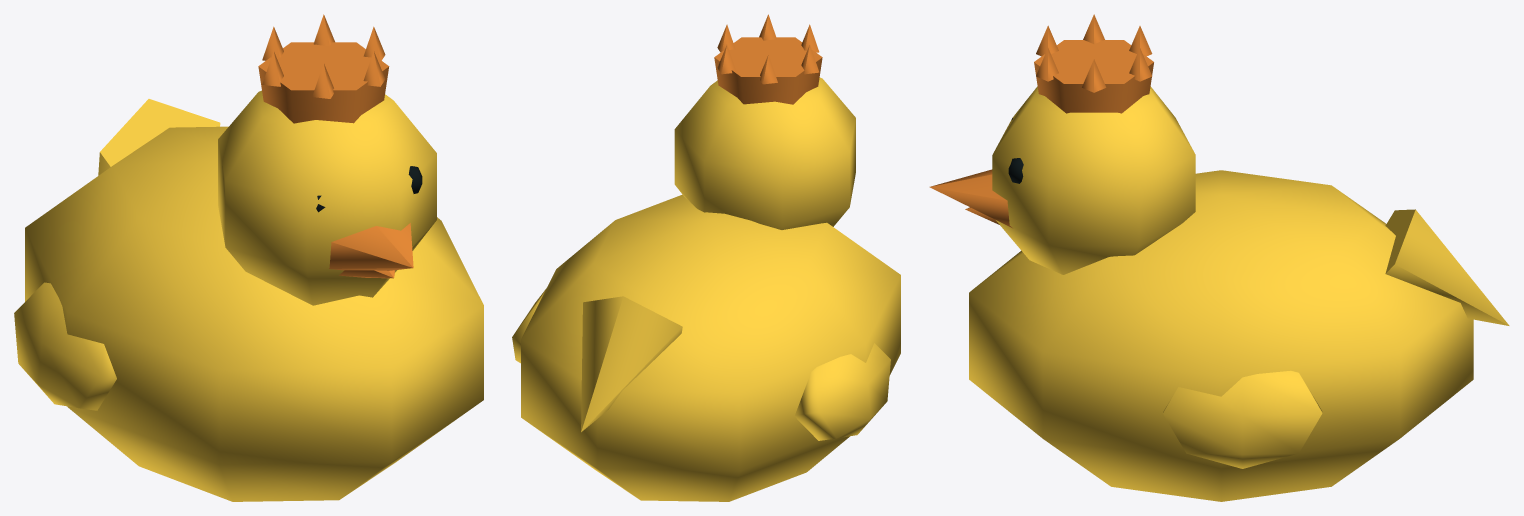
The model's file is duck-crown.glb.
3 renders of one model, left to right at view 1: azimuth 30°, elevation 25°; view 2: azimuth 150°, elevation 25°; view 3: azimuth 270°, elevation 25°, orthographic. The views are drawn at different scales.
Visible parts, largest first — view 1: CouncilDuck_crown; view 2: CouncilDuck_crown; view 3: CouncilDuck_crown.
Part boxes in pixels (left/top/right/bottom): CouncilDuck_crown: left=14, top=14, right=483, bottom=501; CouncilDuck_crown: left=512, top=14, right=900, bottom=501; CouncilDuck_crown: left=929, top=14, right=1509, bottom=501.
Bounding box in the file's own units: 2.46 × 2.75 × 3.29.
